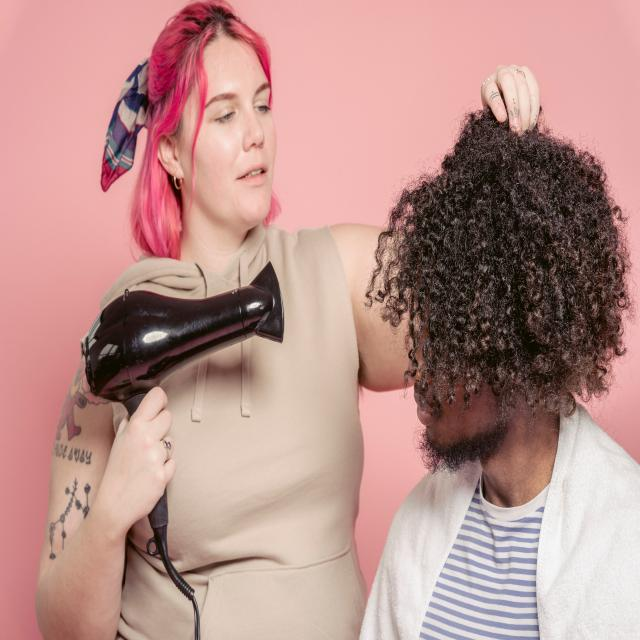dryer: (81, 258, 286, 600)
